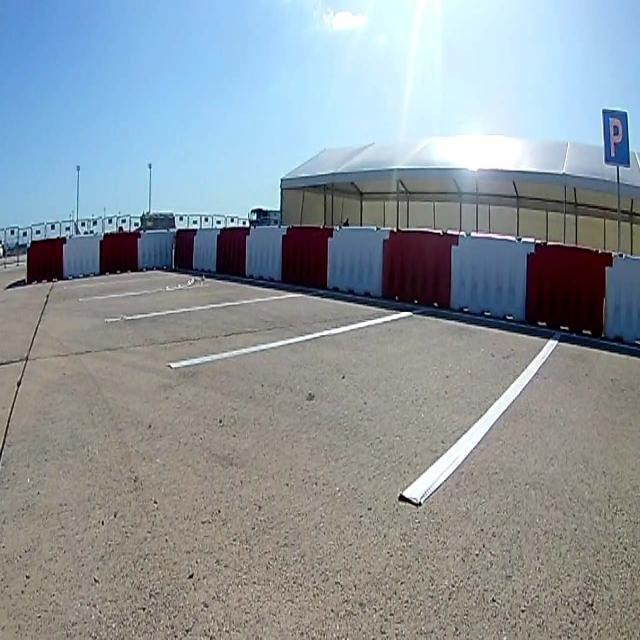park: (602, 108, 630, 168)
